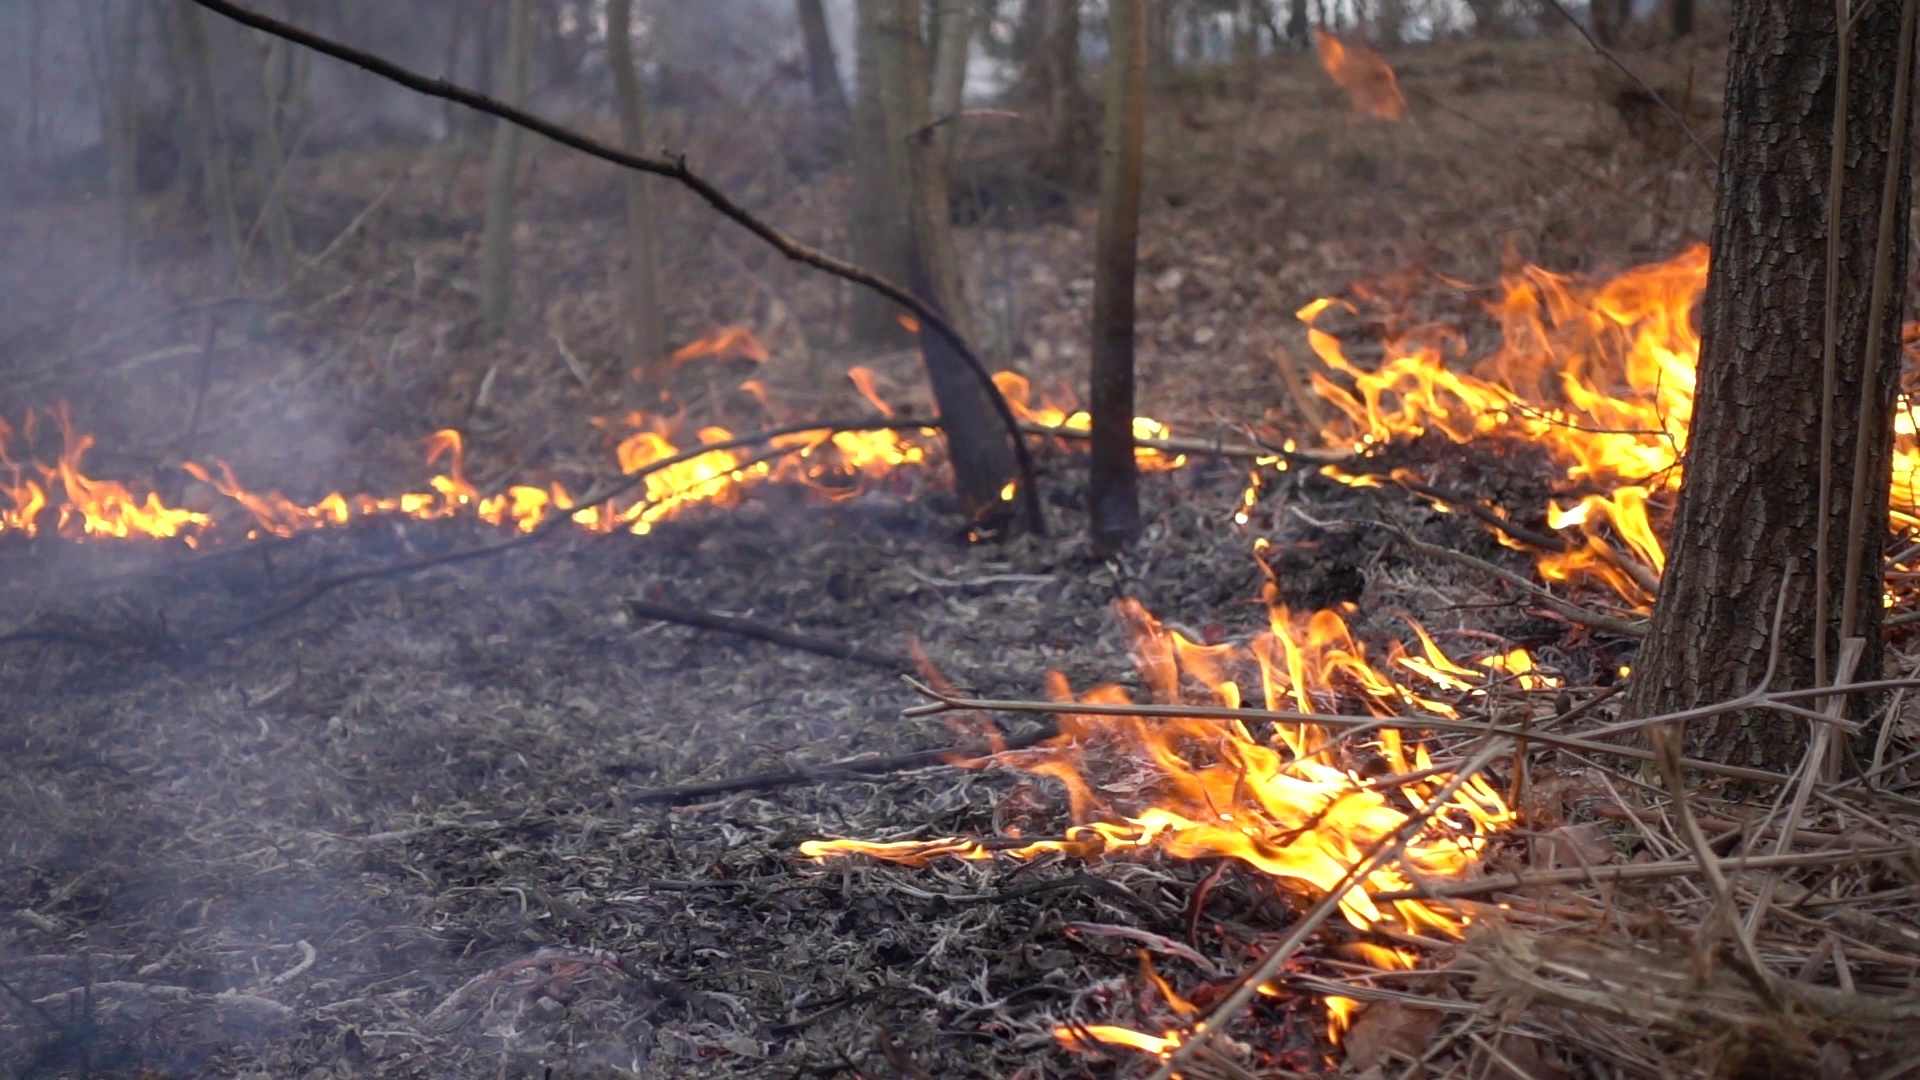fire: (973, 583, 1560, 964), (1294, 251, 1709, 588), (228, 439, 553, 538), (564, 423, 761, 531), (5, 448, 202, 542), (831, 425, 907, 473), (1895, 396, 1920, 516), (1134, 421, 1167, 473)
